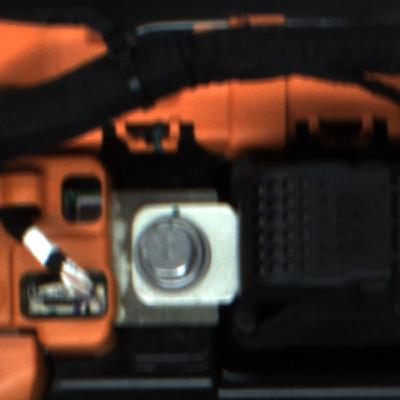nut_b: (132, 214, 218, 293)
